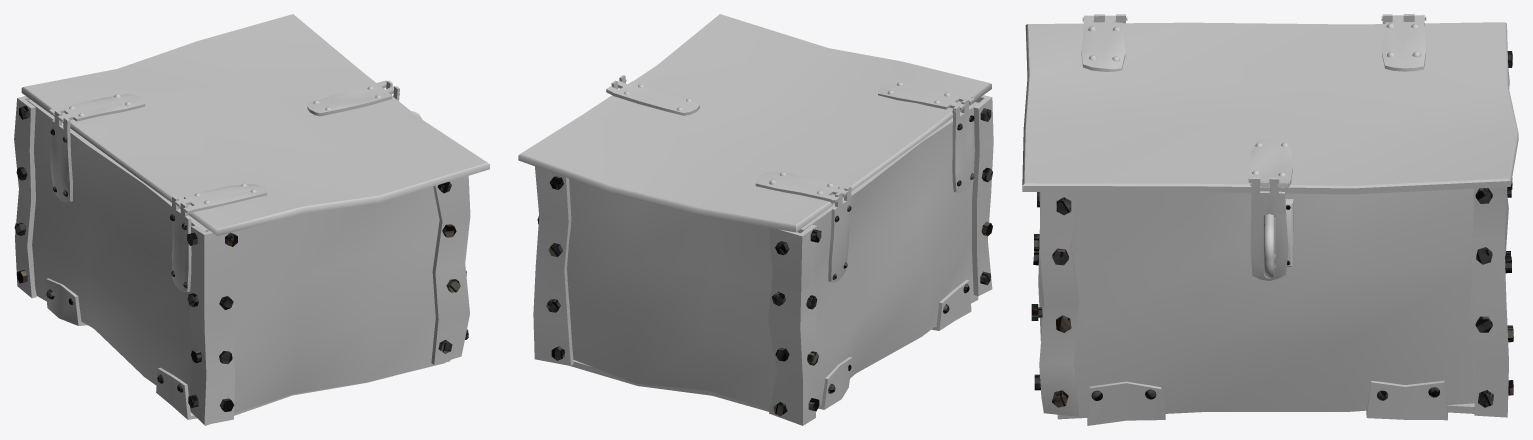
The model's file is yellow_scrap_box.dae.
3 views of the same model, side by side, from view 1: azimuth 30°, elevation 25°; view 2: azimuth 150°, elevation 25°; view 3: azimuth 270°, elevation 25° (orthographic). The views are drawn at different scales.
Visible parts, largest first — view 1: Base, Tape, Carcass, Nails; view 2: Base, Tape, Carcass, Nails; view 3: Tape, Base, Carcass, Nails, Enclosure.
Part boxes in pixels (left/top/right/bottom): Base: left=27, top=99, right=450, bottom=425; Tape: left=21, top=14, right=489, bottom=235; Carcass: left=14, top=96, right=470, bottom=424; Nails: left=14, top=106, right=468, bottom=412; Base: left=567, top=99, right=978, bottom=411; Tape: left=518, top=14, right=991, bottom=232; Carcass: left=533, top=95, right=993, bottom=425; Nails: left=537, top=108, right=992, bottom=416; Tape: left=1022, top=15, right=1518, bottom=194; Base: left=1039, top=14, right=1508, bottom=419; Carcass: left=1038, top=68, right=1509, bottom=425; Nails: left=1031, top=51, right=1513, bottom=407; Enclosure: left=1250, top=177, right=1288, bottom=280.
Size of the model in its own units: 38.27 by 42.11 by 25.14.
